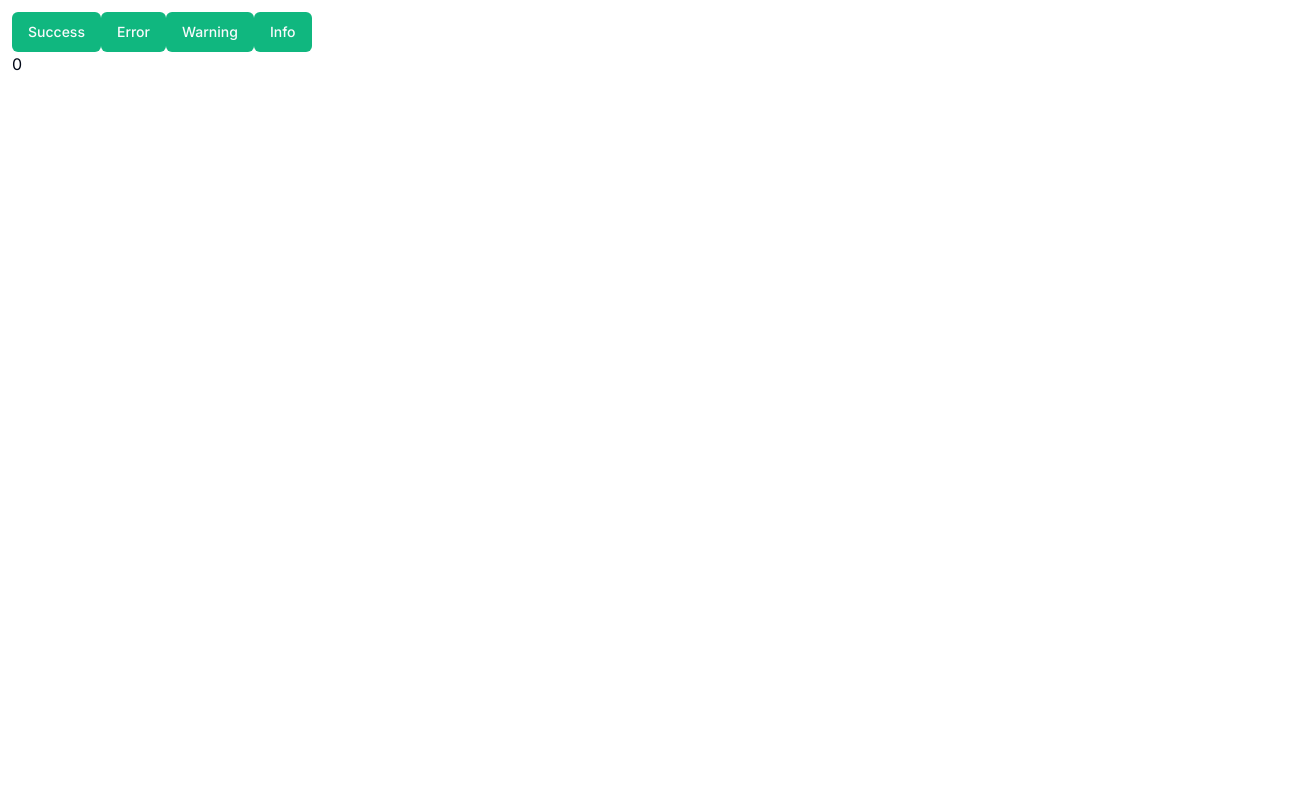
Test: Toast › Toast Types › should show success toast
Click the button "Success".
click(56, 32)  # box [12, 12, 101, 52]
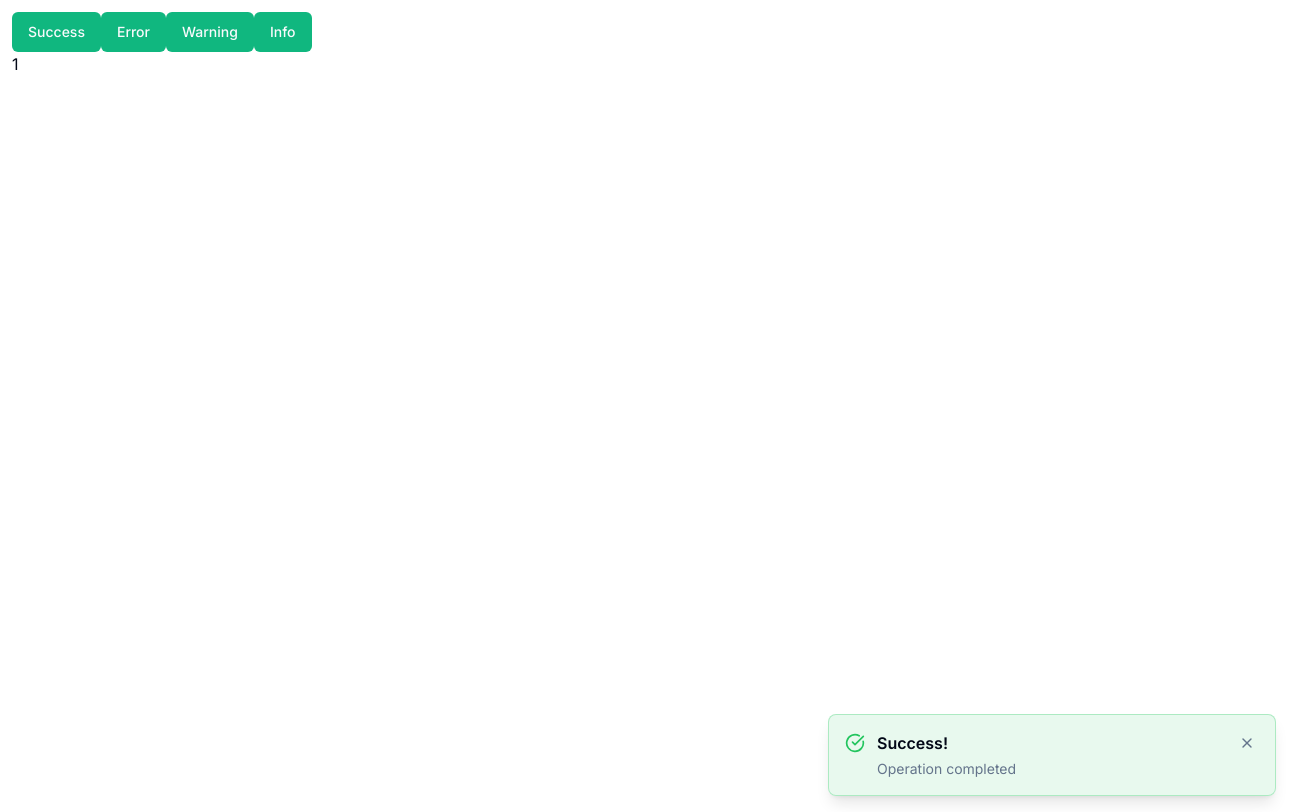
Result: the text "Success!" is shown at [877, 733, 948, 753]
Result: the text "Operation completed" is shown at [877, 760, 1016, 777]
